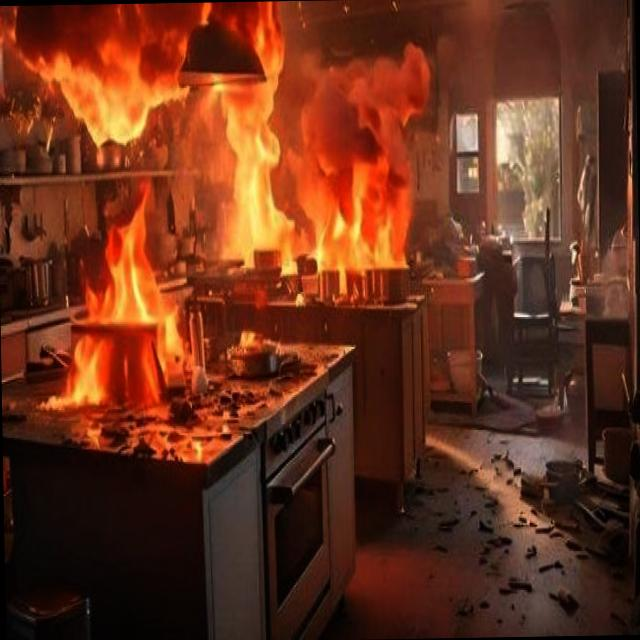Fire_Dangerous: (0, 2, 205, 161), (204, 0, 312, 277), (54, 216, 200, 413), (314, 75, 419, 283)
